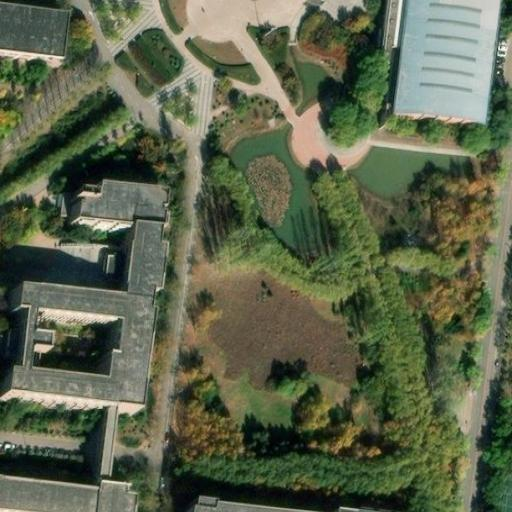building: (0, 194, 162, 414), (390, 0, 497, 124), (185, 500, 320, 512)
